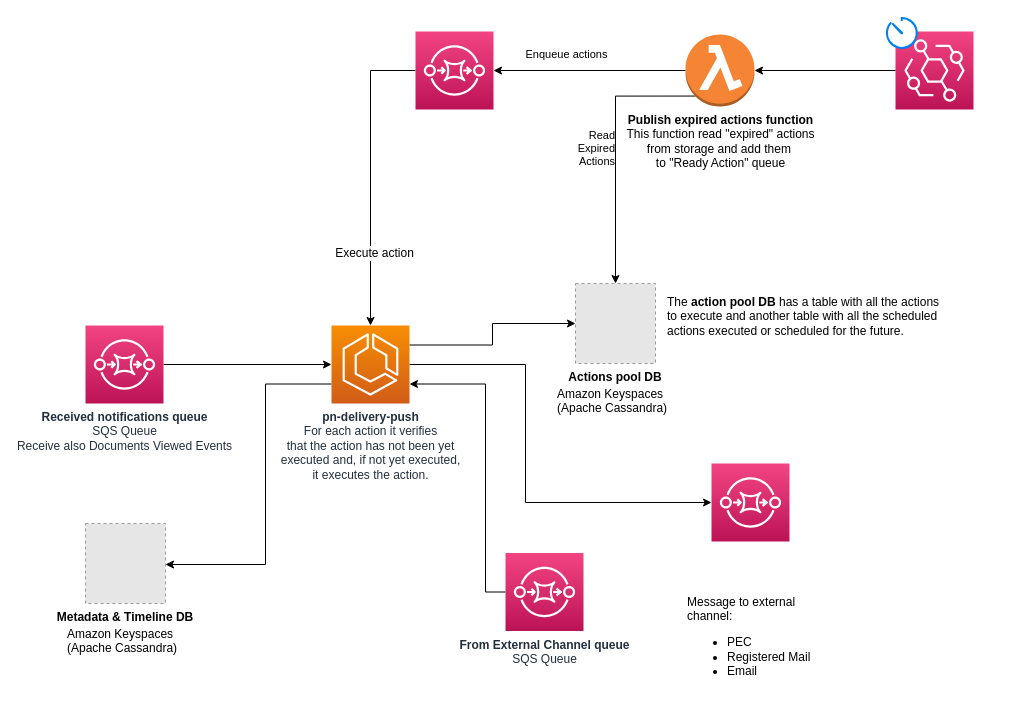
Image size: 1029x711. Some labels were removed from this diagram. Grey dashed boxes stand in for pictures. The box of each missing label's shape, as (x1, y1, x2, y2) in pixels:
Cron expression scheduler Event Bridge: (894, 30, 974, 110)
Ready actions queue SQS Queue: (414, 30, 494, 110)
To External Channel queue SQS Queue: (710, 462, 790, 542)
